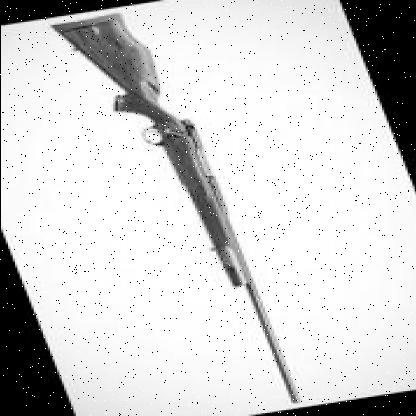rifle: (49, 3, 313, 416)
